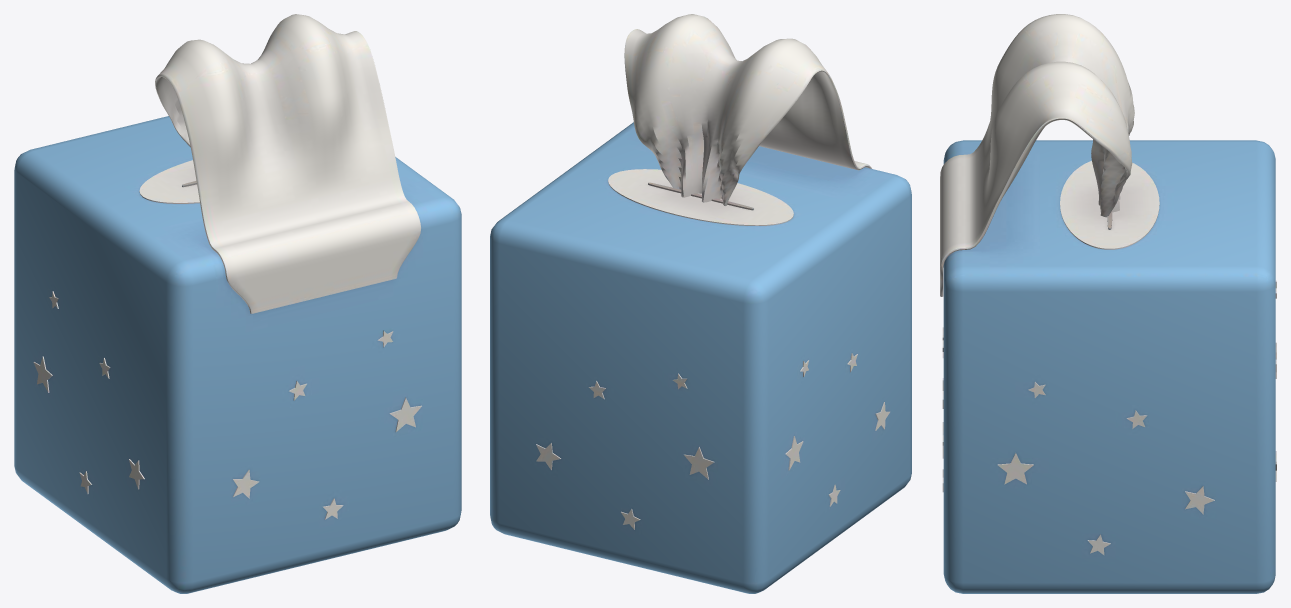
Rendered from caja_panuelos.glb.
3 views of the same model, side by side, from view 1: azimuth 30°, elevation 25°; view 2: azimuth 150°, elevation 25°; view 3: azimuth 270°, elevation 25° (orthographic). The views are drawn at different scales.
Parts seen in each view (by area): view 1: tissue-box_body; view 2: tissue-box_body; view 3: tissue-box_body.
Part boxes in pixels (x1,y1,x2,y2): tissue-box_body: (14,14,461,593); tissue-box_body: (490,14,911,593); tissue-box_body: (940,14,1276,593).
Bounding box in the file's own units: 0.1208 × 0.1939 × 0.1217.
Materials: 1 (1 with a texture image).
